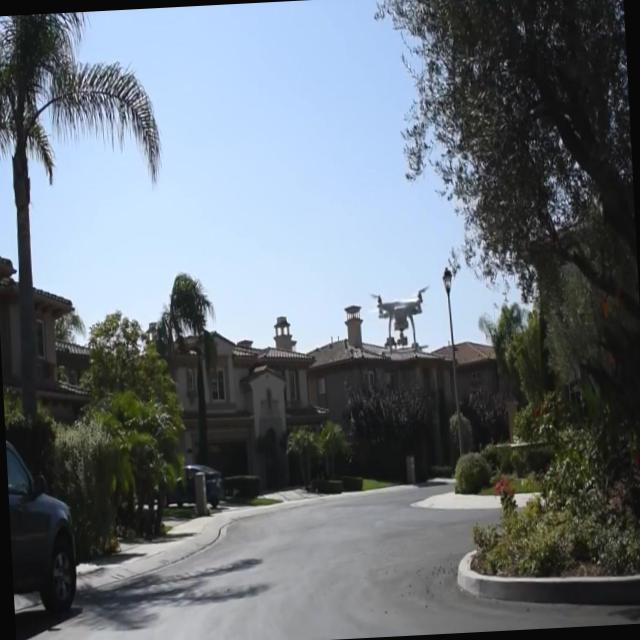drone: (370, 282, 433, 356)
